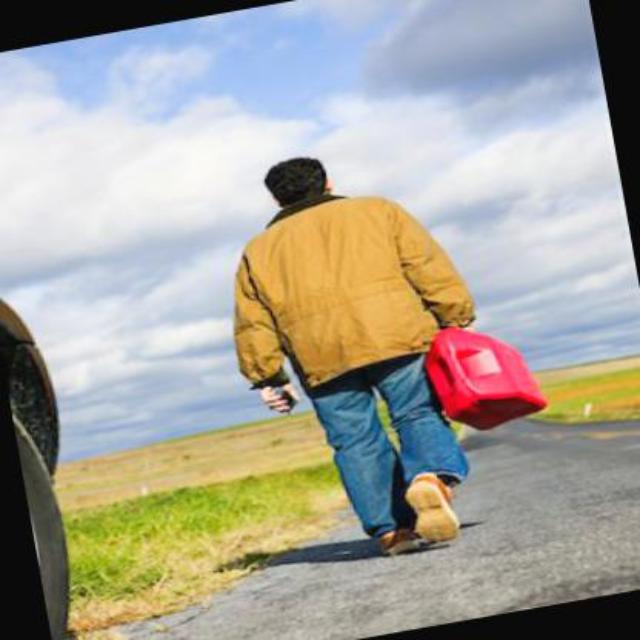chemical_plastic_gallon: (416, 312, 548, 440)
